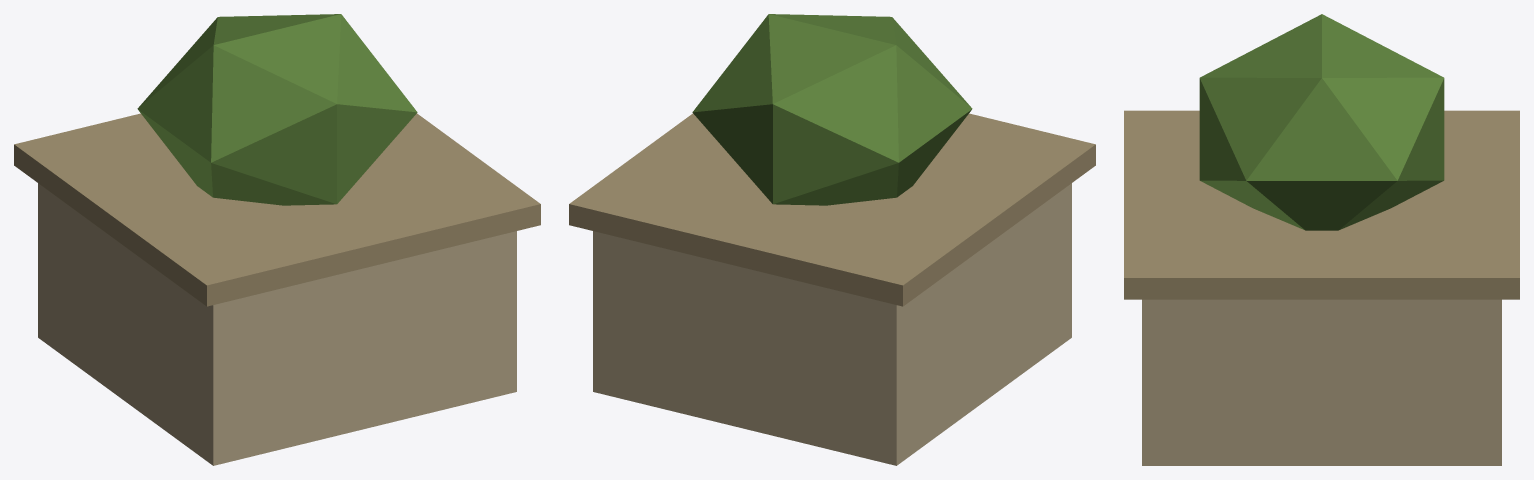
The model's file is w-planter.glb.
The picture shows the model from 3 angles, left to right: view 1: azimuth 30°, elevation 25°; view 2: azimuth 150°, elevation 25°; view 3: azimuth 270°, elevation 25°; orthographic projection. The views are drawn at different scales.
Visible parts, largest first — view 1: w-planter; view 2: w-planter; view 3: w-planter.
Boxes of the visible parts, <box> form: w-planter: <box>14,14,540,465</box>; w-planter: <box>569,14,1095,465</box>; w-planter: <box>1124,14,1519,465</box>.
Size of the model in its own units: 0.66 by 0.6331 by 0.66.
